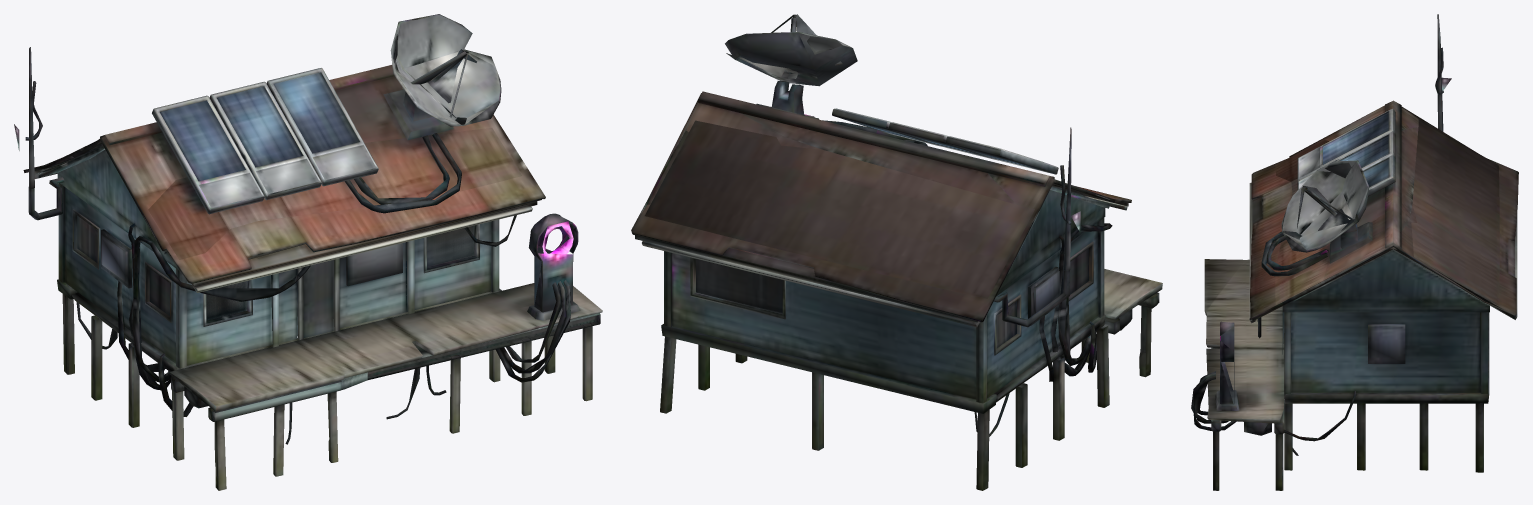
The model's file is kampong_ayer_house.glb.
The picture shows the model from 3 angles, left to right: view 1: azimuth 30°, elevation 25°; view 2: azimuth 150°, elevation 25°; view 3: azimuth 270°, elevation 25°; orthographic projection. The views are drawn at different scales.
Parts seen in each view (by area): view 1: Body; view 2: Body; view 3: Body.
Boxes of the visible parts, x1,y1,x2,y2 form: Body: (23, 14, 602, 490); Body: (631, 14, 1162, 490); Body: (1191, 14, 1518, 490).
Bounding box in the file's own units: 9.96 × 7.73 × 7.49.
Materials: 2 (2 with a texture image).
